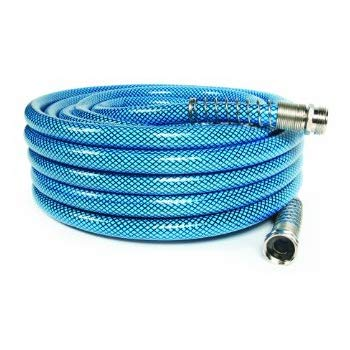Nonrec_Tangler: (1, 74, 333, 265)
